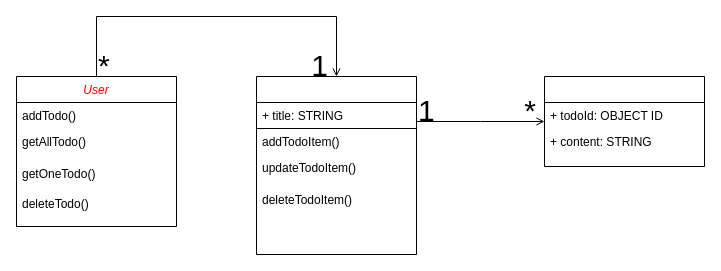
Some shapes in this 721 by 271 pixel diagram are drawn without their labels. The box of each missing label's shape, as (x1, y1, x2, y2) in pixels:
TodoItem: (544, 76, 704, 166)
TodoList: (256, 76, 416, 254)
